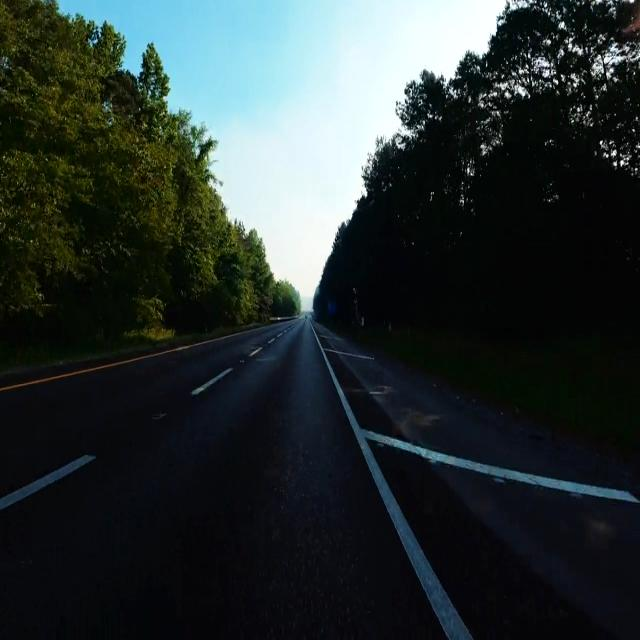lane: (324, 356, 638, 640), (0, 453, 95, 510), (191, 368, 232, 396)
road: (0, 318, 444, 637), (370, 443, 640, 636), (321, 337, 640, 495)
